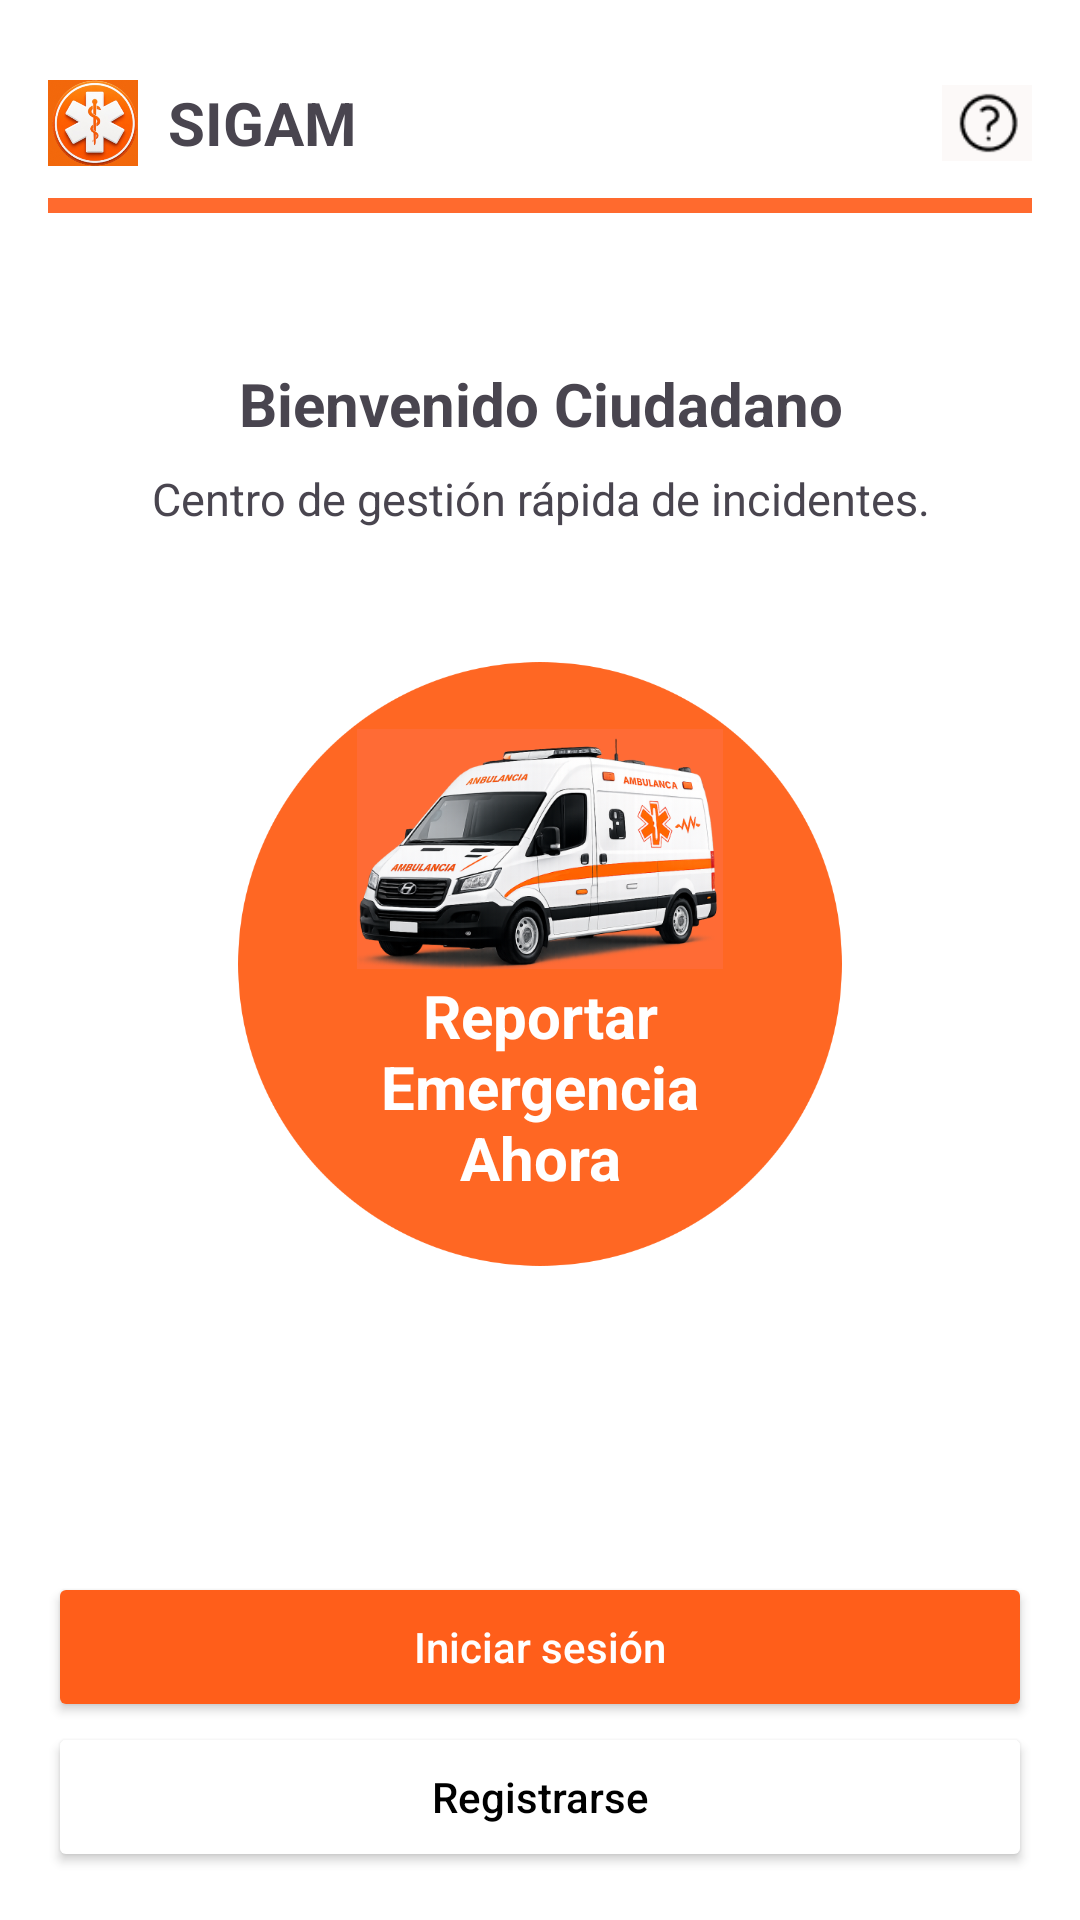

Locate icon controls on the screen. Image size 1080px×1920px, boxes as (x1, y1, x2, y2).
pregunta: (959, 94, 1018, 153)
